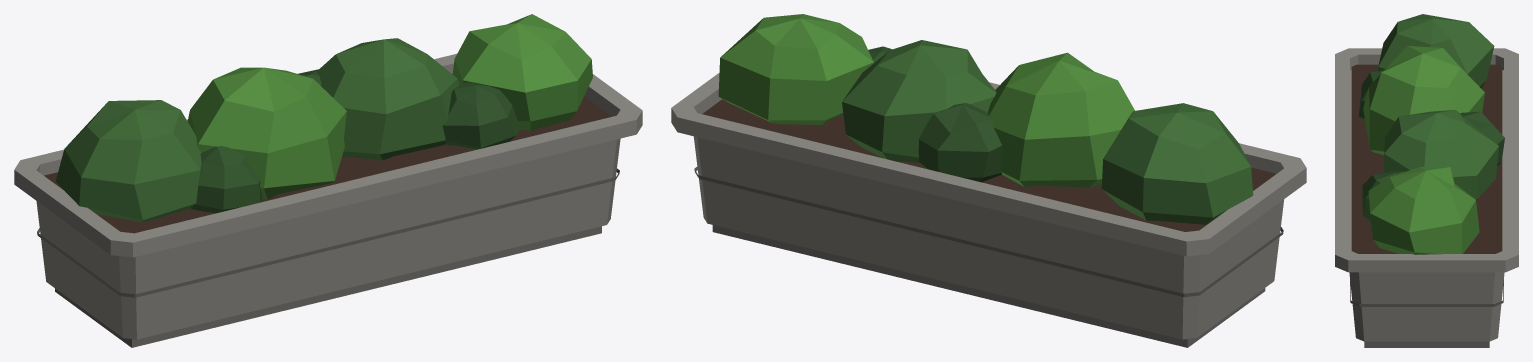
File: Shop_SidewalkPlanter.fbx
The picture shows the model from 3 angles, left to right: view 1: azimuth 30°, elevation 25°; view 2: azimuth 150°, elevation 25°; view 3: azimuth 270°, elevation 25°; orthographic projection. The views are drawn at different scales.
Visible parts, largest first — view 1: Trough, Shrubs0, Shrubs1, Shrubs2, Foot, Soil; view 2: Trough, Shrubs1, Shrubs0, Foot, Soil, Shrubs2; view 3: Trough, Shrubs1, Shrubs0, Soil, Shrubs2, Foot.
Boxes of the visible parts, x1=… form: Trough: x1=14, y1=53, x2=642, y2=339; Shrubs0: x1=55, y1=38, x2=458, y2=222; Shrubs1: x1=187, y1=14, x2=592, y2=199; Shrubs2: x1=190, y1=69, x2=520, y2=213; Foot: x1=37, y1=168, x2=619, y2=347; Soil: x1=44, y1=96, x2=611, y2=233; Trough: x1=671, y1=72, x2=1306, y2=339; Shrubs1: x1=718, y1=14, x2=1134, y2=187; Shrubs0: x1=842, y1=40, x2=1253, y2=224; Foot: x1=694, y1=167, x2=1283, y2=347; Soil: x1=702, y1=99, x2=1276, y2=231; Shrubs2: x1=868, y1=46, x2=1001, y2=182; Trough: x1=1335, y1=48, x2=1518, y2=341; Shrubs1: x1=1363, y1=46, x2=1484, y2=254; Shrubs0: x1=1378, y1=14, x2=1498, y2=200; Soil: x1=1351, y1=64, x2=1502, y2=253; Shrubs2: x1=1358, y1=70, x2=1504, y2=221; Foot: x1=1350, y1=280, x2=1503, y2=347.
Bounding box in the file's own units: 600 × 230 × 220.
